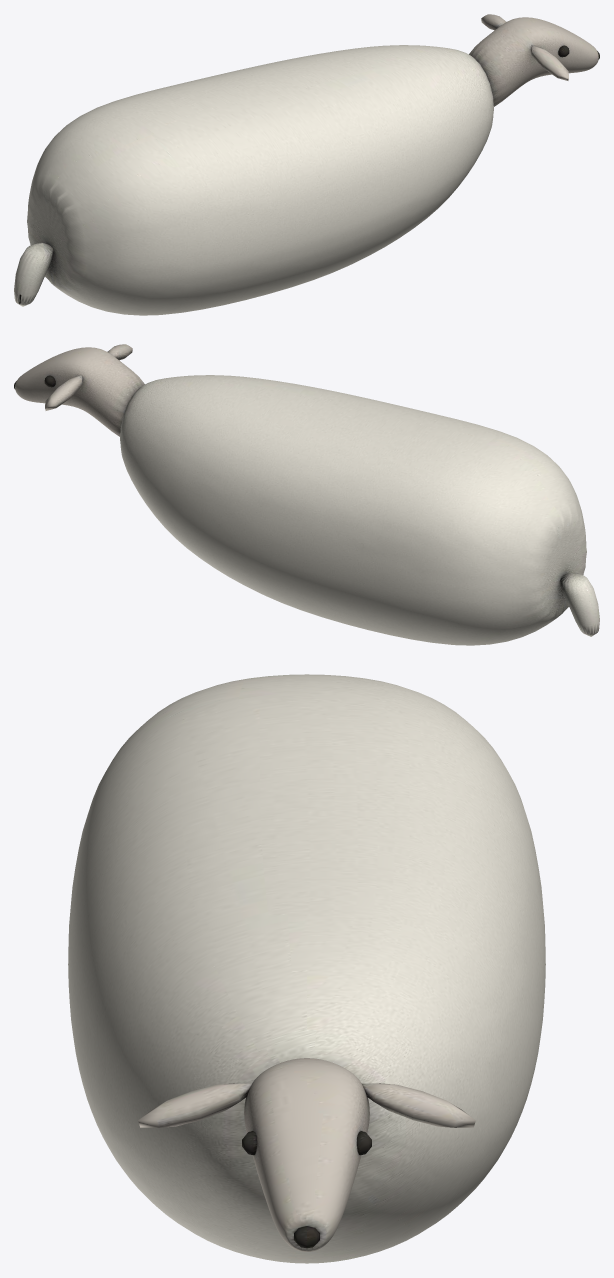
Rendered from sheep_body.glb.
The picture shows the model from 3 angles, top to bottom: view 1: azimuth 30°, elevation 25°; view 2: azimuth 150°, elevation 25°; view 3: azimuth 270°, elevation 25°; orthographic projection. The views are drawn at different scales.
Visible parts, largest first — view 1: sheep_body; view 2: sheep_body; view 3: sheep_body.
Part boxes in pixels (x1,y1,x2,y2): sheep_body: (14, 14, 599, 315); sheep_body: (14, 344, 599, 645); sheep_body: (68, 674, 545, 1263).
Size of the model in its own units: 1.7 by 0.5388 by 0.6043.
1 material, 1 textured.
